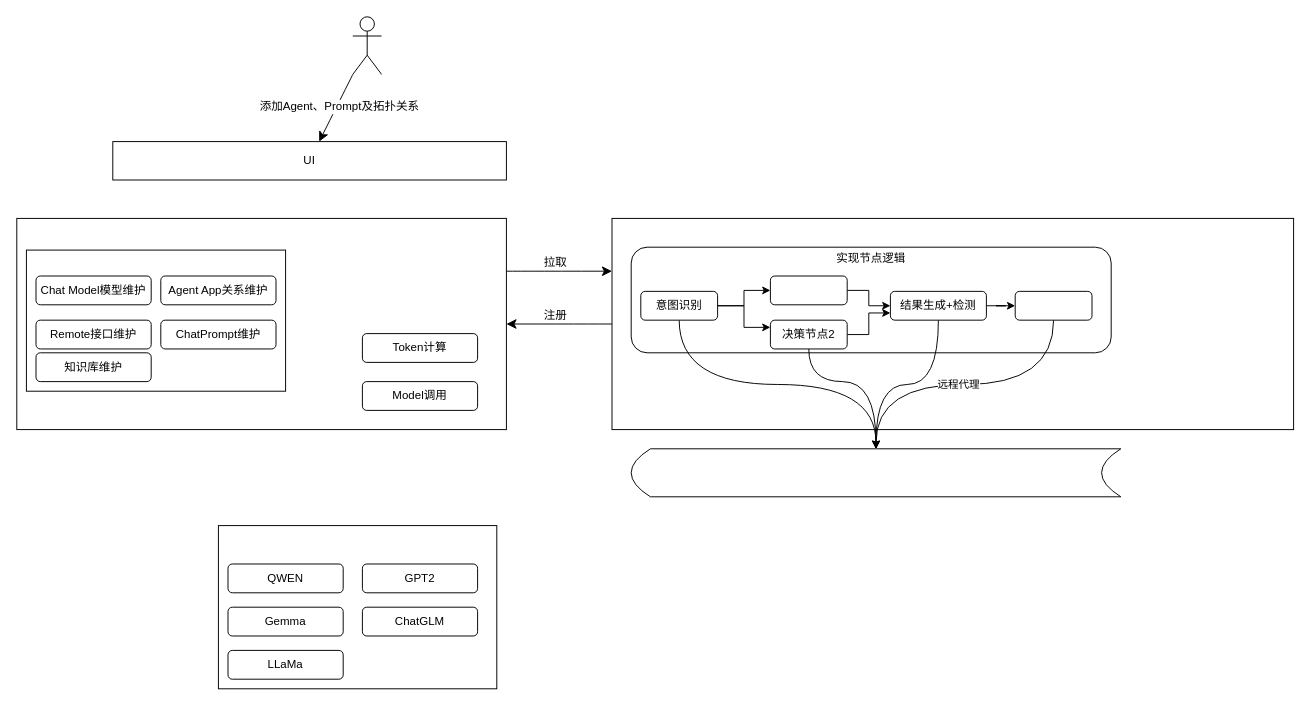
This 1310x706 diagram has some shape labels left out. Here are the shapes that lost their labels. From the top down, the box of each, then its label:
(352, 16, 382, 74): User
(769, 275, 847, 305): 决策节点1
(1014, 290, 1092, 320): 结果聚合
(25, 249, 286, 391): 基础管理
(16, 217, 506, 430): Smart Server
(611, 217, 1294, 430): APP
(630, 448, 1121, 497): 大模型Restful
(217, 525, 497, 689): Chat Model 服务
